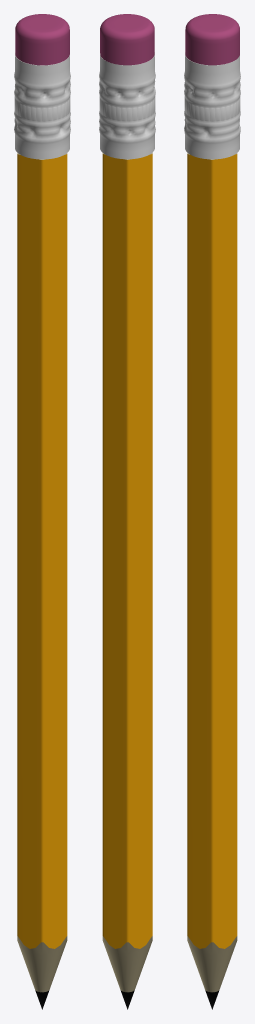
File: Pencil.FBX
3 views of the same model, side by side, from view 1: azimuth 30°, elevation 25°; view 2: azimuth 210°, elevation 25°; view 3: azimuth 330°, elevation 25° (orthographic).
Visible parts, largest first — view 1: Circle01, Line01, Cylinder01; view 2: Circle01, Line01, Cylinder01; view 3: Circle01, Line01, Cylinder01.
Boxes of the visible parts, x1=… form: Circle01: x1=17, y1=153, x2=67, y2=992; Line01: x1=14, y1=53, x2=70, y2=159; Cylinder01: x1=15, y1=14, x2=69, y2=65; Circle01: x1=102, y1=153, x2=152, y2=992; Line01: x1=99, y1=52, x2=155, y2=159; Cylinder01: x1=100, y1=14, x2=154, y2=65; Circle01: x1=187, y1=153, x2=237, y2=992; Line01: x1=184, y1=52, x2=240, y2=159; Cylinder01: x1=185, y1=14, x2=239, y2=65.
Size of the model in its own units: 32.94 by 628 by 32.69.
